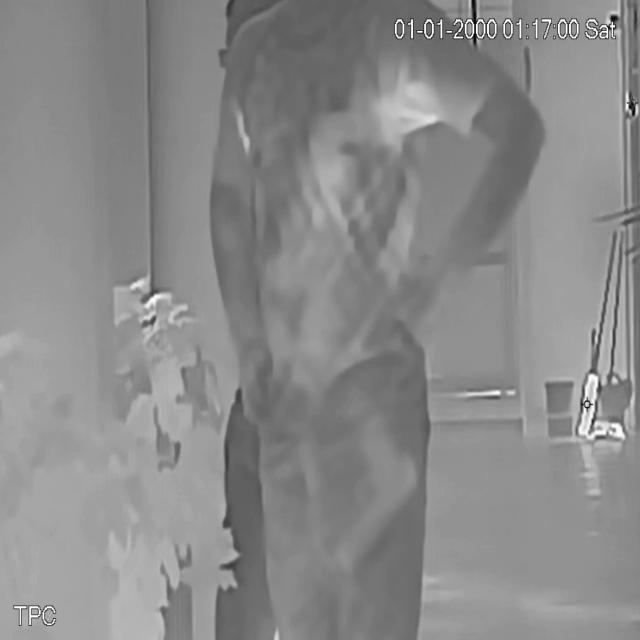Weapon: (335, 408, 420, 576)
